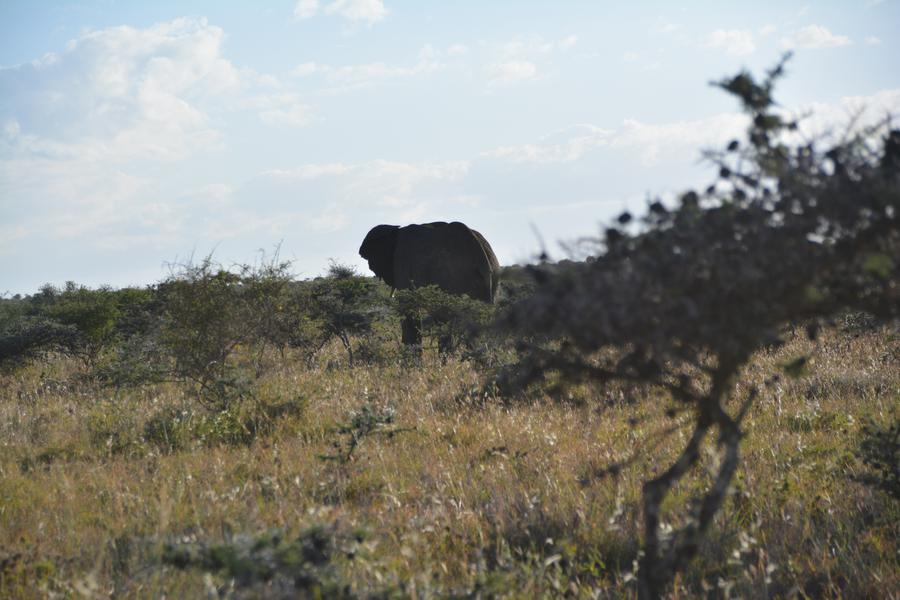elephant: (366, 216, 503, 340)
